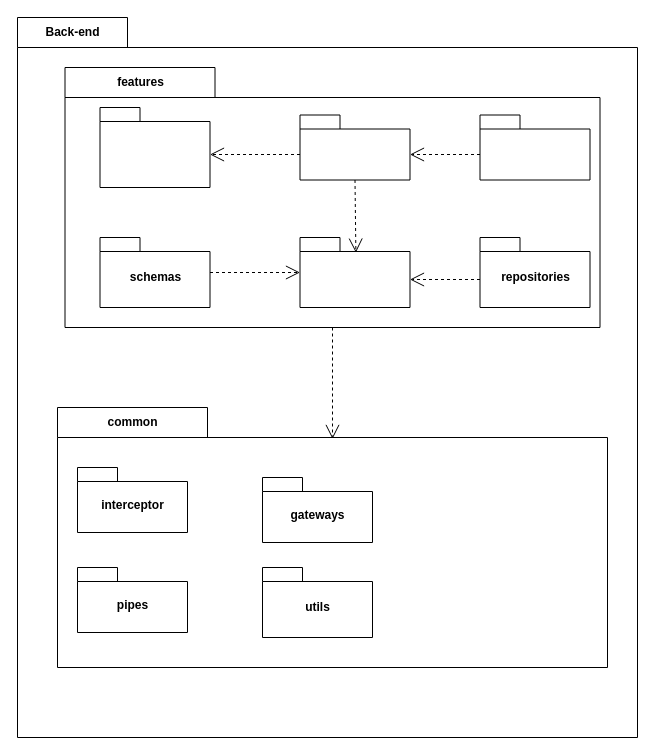
This 655x755 diagram has some shape labels left out. Each missing label, with the centre of its shape:
controllers: pixel 354 147
models: pixel 154 147
modules: pixel 534 147
services: pixel 354 272
